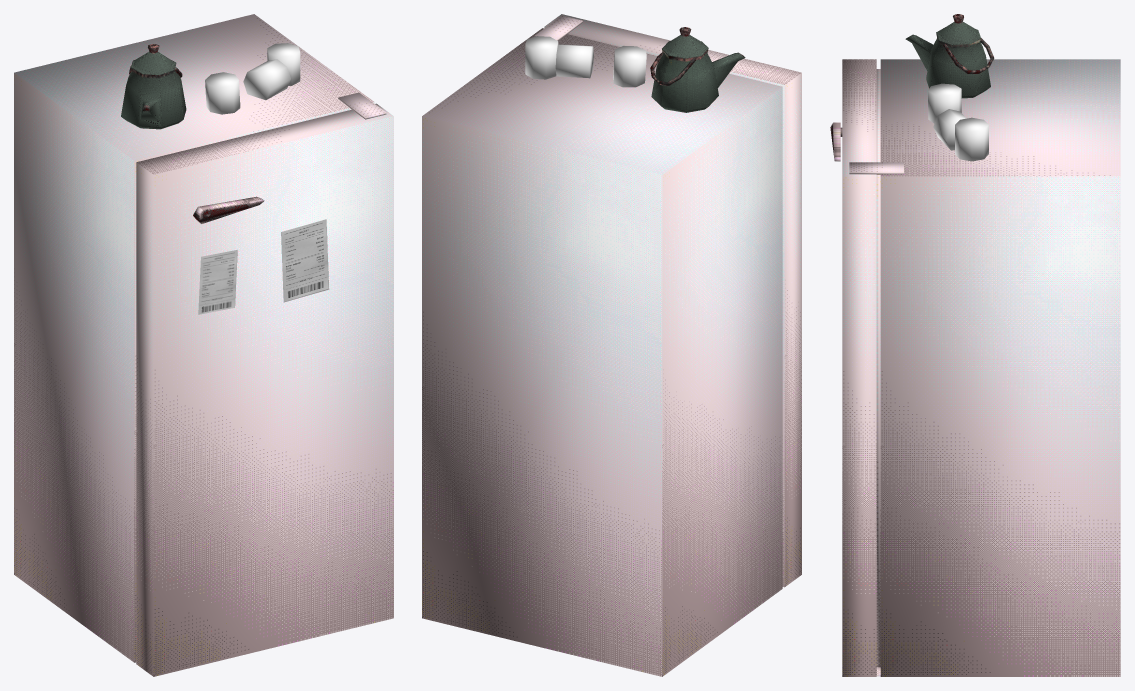
Rendered from fridge.glb.
The picture shows the model from 3 angles, left to right: view 1: azimuth 30°, elevation 25°; view 2: azimuth 150°, elevation 25°; view 3: azimuth 270°, elevation 25°; orthographic projection.
Parts seen in each view (by area): view 1: fridge, kittle, Plane.001, Plane, can.001, can.003, can.002; view 2: fridge, kittle, can.002, can.003, can.001; view 3: fridge, kittle, can.002, can.003, can.001.
Part boxes in pixels (bbox=[...]): fridge: bbox=[14, 14, 393, 676]; kittle: bbox=[121, 44, 186, 129]; Plane.001: bbox=[281, 219, 329, 302]; Plane: bbox=[198, 250, 237, 314]; can.001: bbox=[243, 59, 290, 100]; can.003: bbox=[205, 72, 240, 114]; can.002: bbox=[267, 43, 300, 85]; fridge: bbox=[422, 14, 801, 676]; kittle: bbox=[650, 27, 745, 112]; can.002: bbox=[525, 36, 558, 79]; can.003: bbox=[613, 46, 646, 87]; can.001: bbox=[555, 44, 593, 78]; fridge: bbox=[830, 59, 1120, 676]; kittle: bbox=[905, 14, 994, 98]; can.002: bbox=[955, 117, 988, 161]; can.003: bbox=[928, 83, 961, 123]; can.001: bbox=[933, 109, 966, 150].
Bounding box in the file's own units: 1.16 × 2.66 × 1.22.
4 materials, 3 textured.
